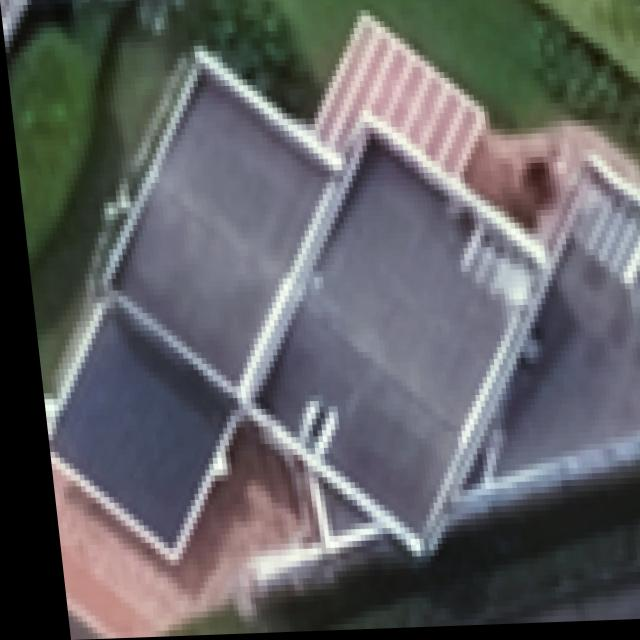Batiment: (40, 25, 542, 560), (437, 166, 640, 524), (243, 470, 369, 579), (287, 398, 359, 495)
